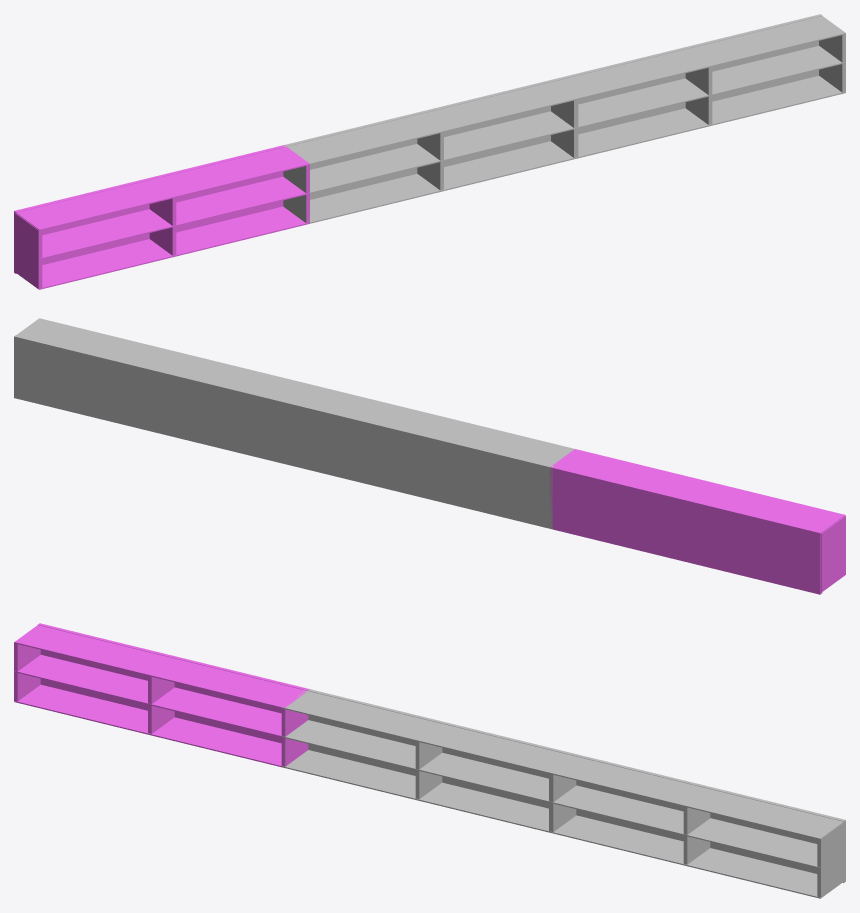
File: longshelf.obj
3 views of the same model, one above another, from view 1: azimuth 30°, elevation 25°; view 2: azimuth 150°, elevation 25°; view 3: azimuth 330°, elevation 25° (orthographic).
Visible parts, largest first — view 1: pCube5; view 2: pCube5; view 3: pCube5.
Part boxes in pixels (x1,y1,x2,y2): pCube5: [14, 14, 845, 289]; pCube5: [14, 318, 845, 594]; pCube5: [14, 623, 845, 898].
Bounding box in the file's own units: 110 × 7.99 × 5.97.
